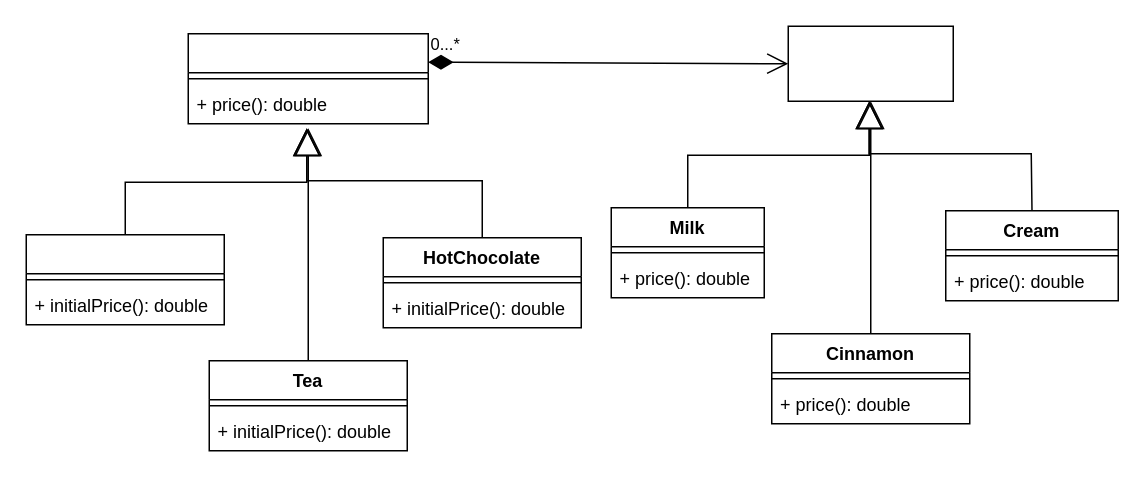
Some shapes in this 1145 by 482 pixel diagram are drawn without their labels. Each missing label, with the box of its shape:
Beverage: (187, 32, 428, 124)
Coffee: (25, 233, 224, 325)
«interface» Supplement: (787, 25, 953, 101)
